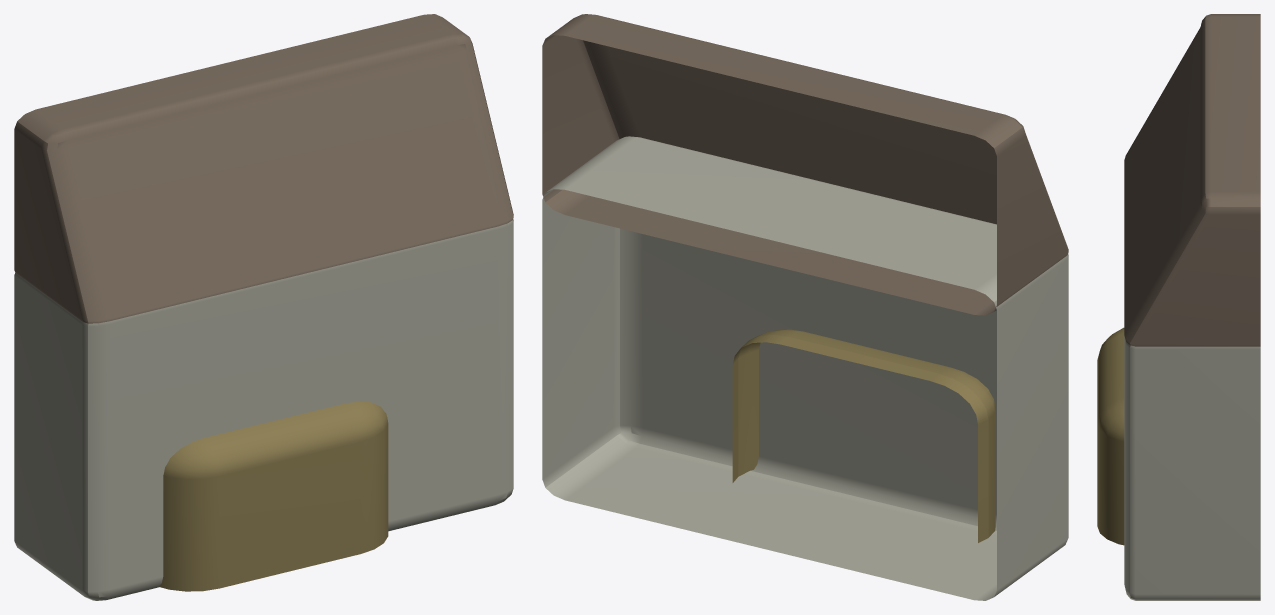
3 views of the same model, side by side, from view 1: azimuth 30°, elevation 25°; view 2: azimuth 150°, elevation 25°; view 3: azimuth 270°, elevation 25° (orthographic). The views are drawn at different scales.
Visible parts, largest first — view 1: polySurface37, polySurface36, polySurface39; view 2: polySurface37, polySurface36, polySurface39; view 3: polySurface36, polySurface37, polySurface39.
Boxes of the visible parts, x1=… form: polySurface37: x1=14, y1=219, x2=513, y2=600; polySurface36: x1=14, y1=14, x2=513, y2=323; polySurface39: x1=158, y1=401, x2=388, y2=591; polySurface37: x1=542, y1=136, x2=1068, y2=600; polySurface36: x1=542, y1=14, x2=1068, y2=315; polySurface39: x1=732, y1=329, x2=995, y2=542; polySurface36: x1=1124, y1=14, x2=1260, y2=346; polySurface37: x1=1124, y1=336, x2=1260, y2=600; polySurface39: x1=1097, y1=327, x2=1124, y2=545.
Bounding box in the file's own units: 7.22 × 7.04 × 2.56.
